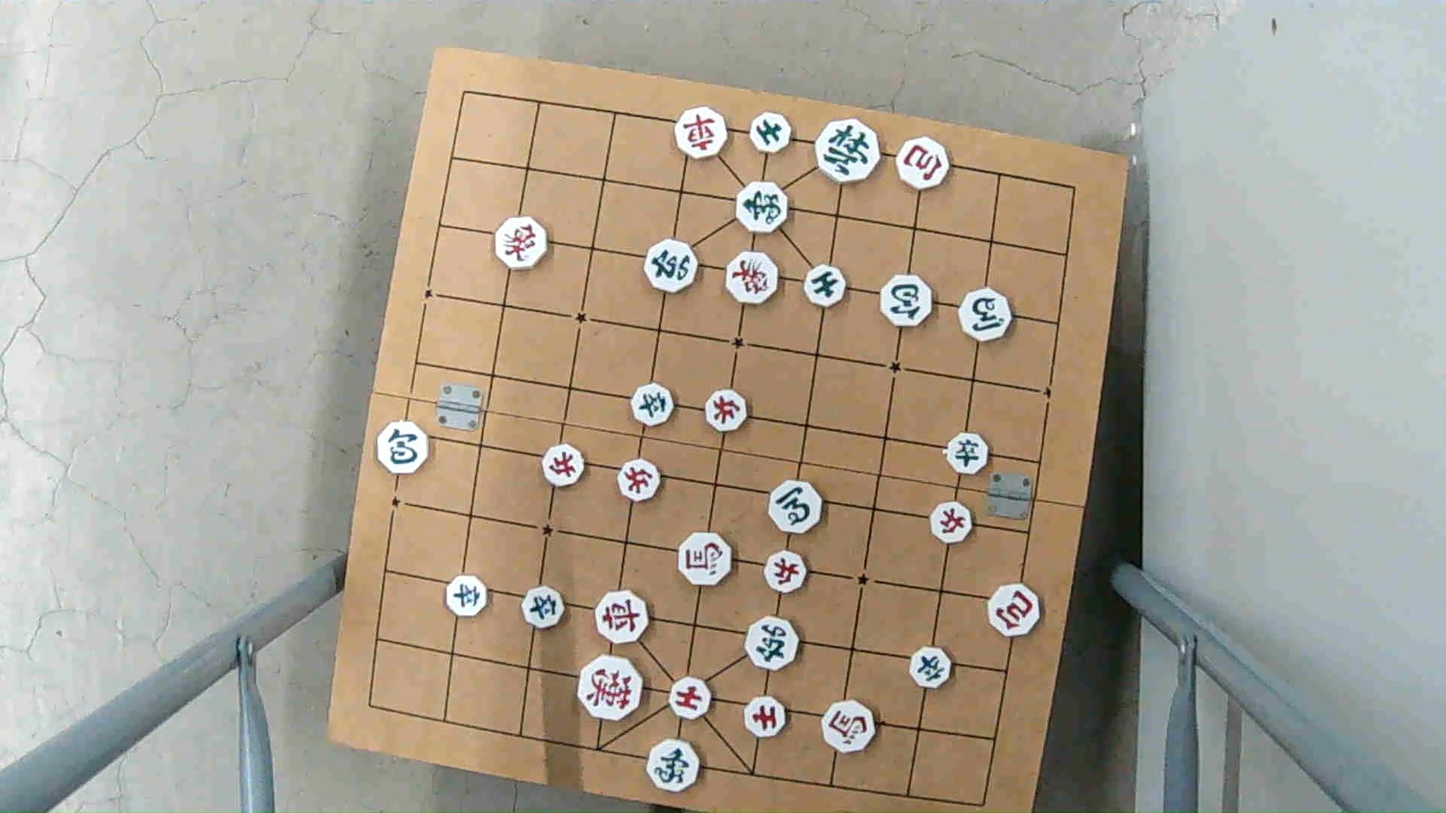cha_green: (746, 615, 798, 670), (642, 243, 697, 291)
cha_red: (596, 589, 650, 643), (674, 108, 731, 158)
jol_green: (909, 647, 956, 687), (520, 589, 566, 629), (630, 386, 676, 425), (447, 576, 492, 615), (946, 434, 992, 472)
jol_red: (929, 503, 976, 544), (541, 446, 588, 485), (701, 393, 749, 431), (764, 553, 810, 592), (618, 461, 665, 498)
ma_green: (767, 483, 825, 530), (956, 291, 1010, 340)
ma_red: (678, 536, 735, 586), (820, 702, 877, 750)
po_green: (374, 423, 433, 472), (877, 275, 932, 324)
po_red: (895, 141, 951, 190), (987, 587, 1043, 633)
sa_green: (750, 112, 798, 150), (802, 266, 848, 304)
sa_red: (665, 675, 714, 723), (742, 696, 790, 738)
sang_green: (645, 741, 703, 790), (734, 181, 790, 230)
sang_red: (493, 217, 549, 266), (724, 255, 779, 304)
wang_green: (816, 123, 885, 181)
wang_red: (578, 658, 646, 721)
